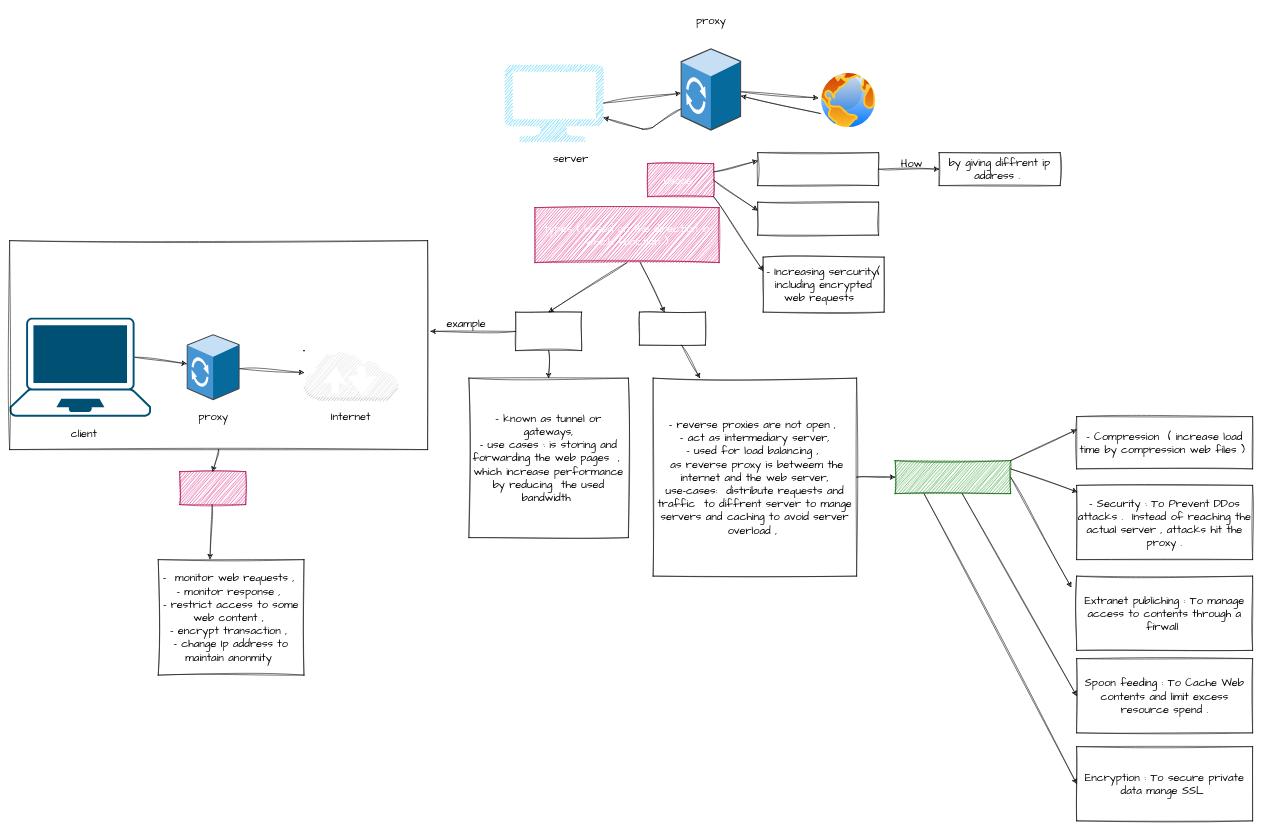
This 1262x831 diagram has some shape labels left out. The centre of each missing label's shape, as x and y in pixels:
"- Access to restricted web contents" goes at pixel 818 169.
"- Provide anonymity" goes at pixel 818 218.
"forward" goes at pixel 548 331.
"reverse" goes at pixel 672 328.
"use cases" goes at pixel 212 488.
"use-cases for rev-proxy" goes at pixel 953 477.
